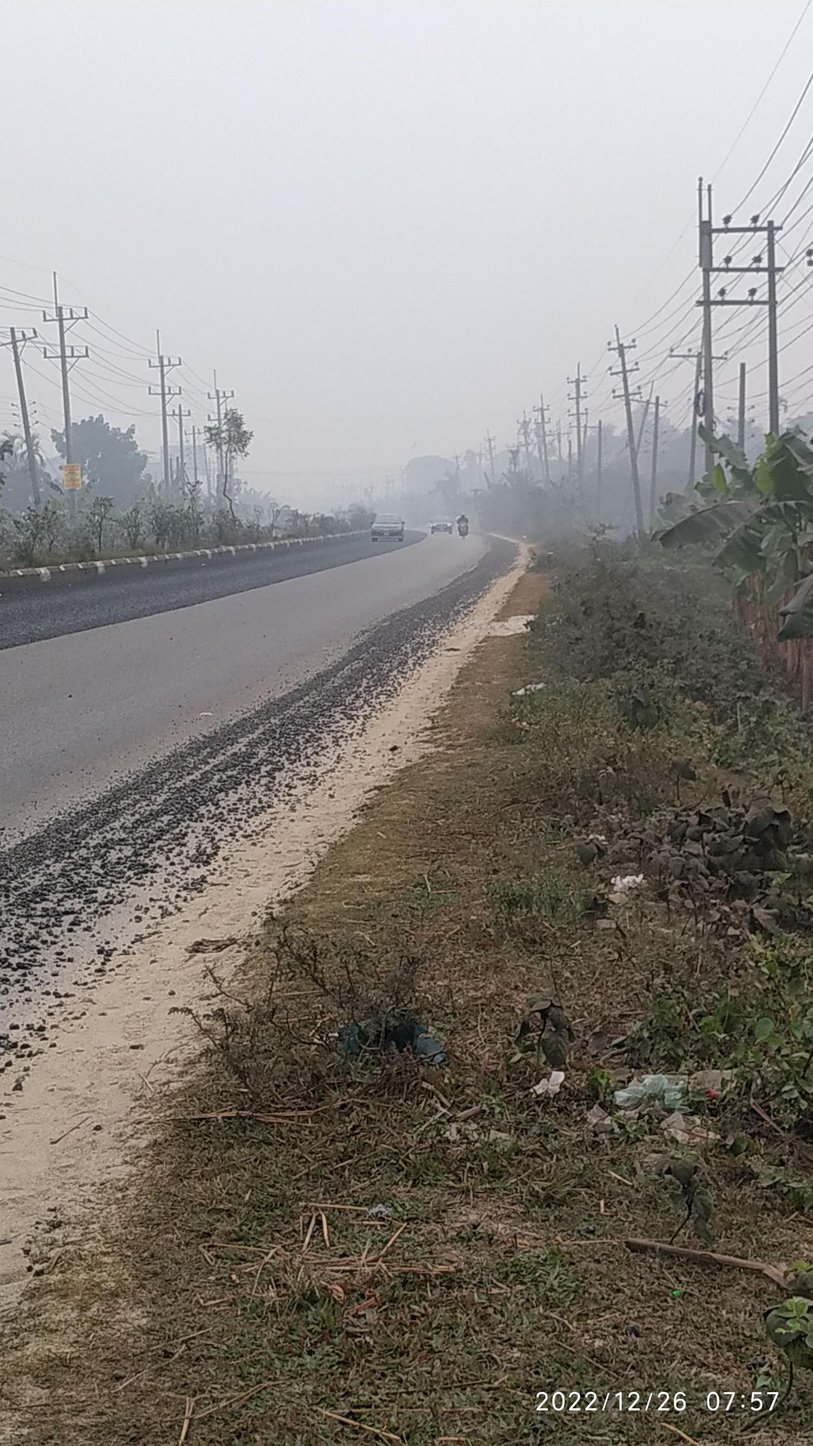Bike: (446, 503, 479, 548)
Car: (363, 501, 414, 554)
